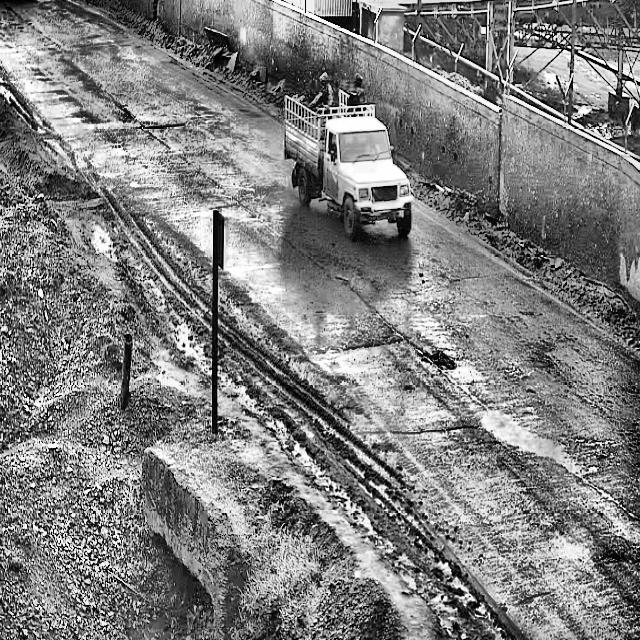light_vehicle: (273, 72, 415, 252)
